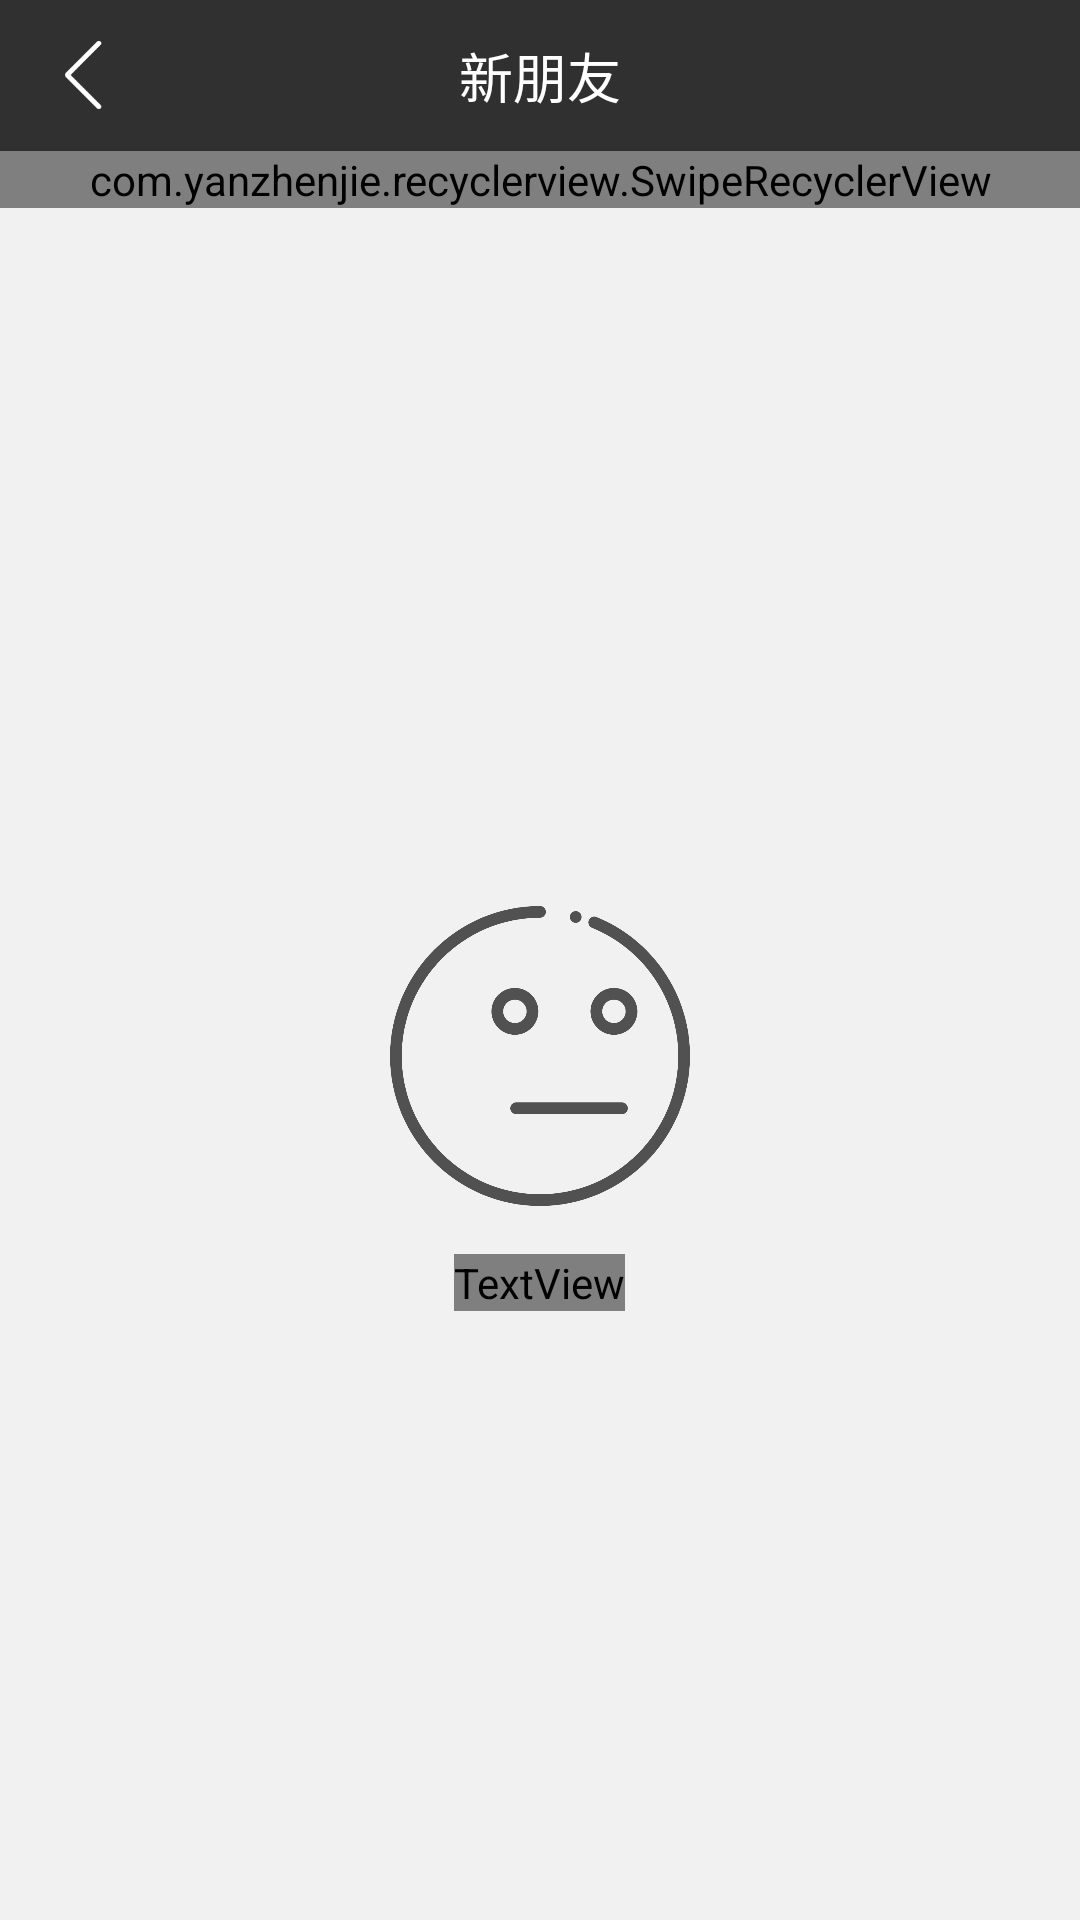

Where to tap for icons on this 1080×1920 app screen, as (x,y):
back: (83,75)
